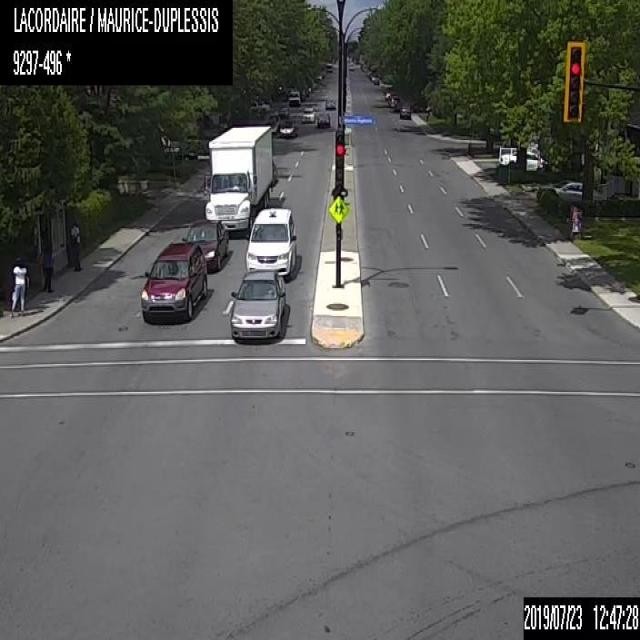pedestrian: (10, 256, 25, 317), (40, 236, 52, 293), (69, 222, 79, 270)
vehicle: (202, 124, 274, 230), (141, 238, 206, 321), (228, 268, 286, 337), (243, 207, 298, 277), (184, 218, 230, 271), (536, 179, 606, 206), (496, 150, 548, 170), (167, 146, 197, 161), (279, 117, 298, 138), (263, 117, 278, 134), (301, 106, 315, 122), (316, 112, 330, 127), (288, 90, 300, 106), (398, 104, 411, 118), (388, 93, 400, 106), (267, 112, 279, 124), (324, 98, 336, 108), (276, 107, 289, 116), (249, 98, 259, 109), (297, 87, 305, 100), (257, 102, 269, 110), (300, 84, 308, 95), (372, 75, 379, 84), (326, 62, 332, 72), (348, 62, 354, 71), (385, 92, 390, 100)
